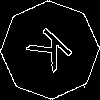K: (25, 25, 82, 81)
